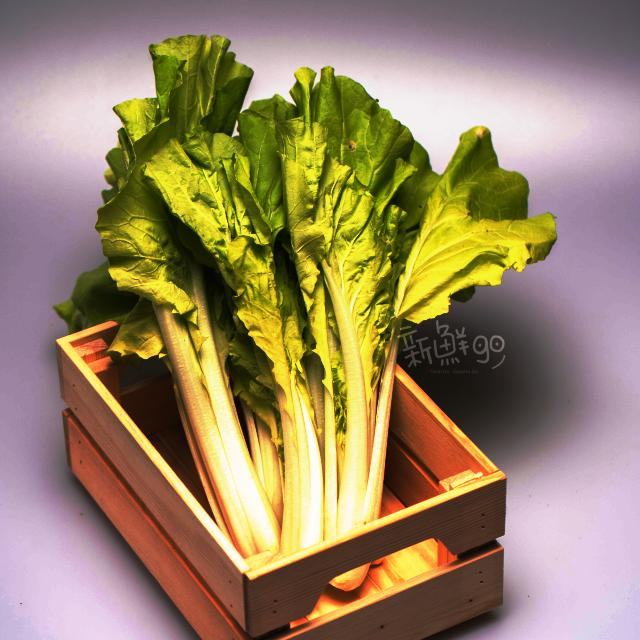chinese_cabbage: (90, 52, 520, 610)
